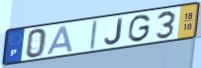0: (24, 27, 48, 59)
3: (154, 9, 177, 41)
A: (45, 24, 75, 56)
G: (126, 13, 152, 44)
I: (89, 19, 99, 51)
J: (103, 17, 124, 46)
